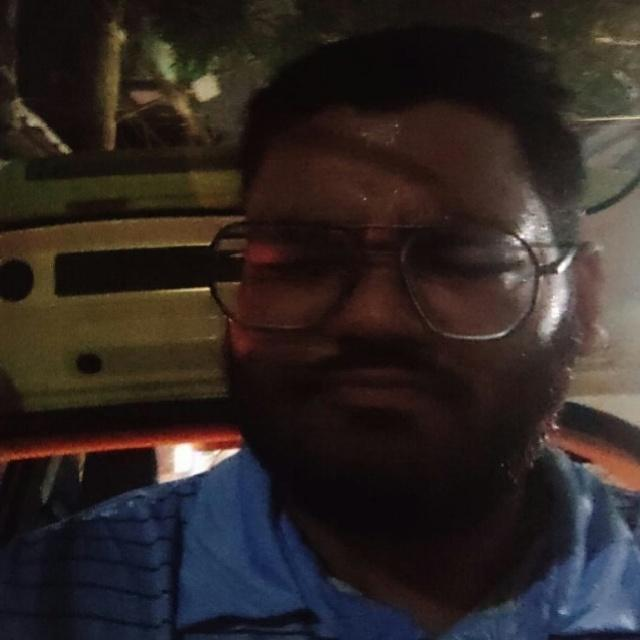Disgust: (203, 94, 614, 562)
